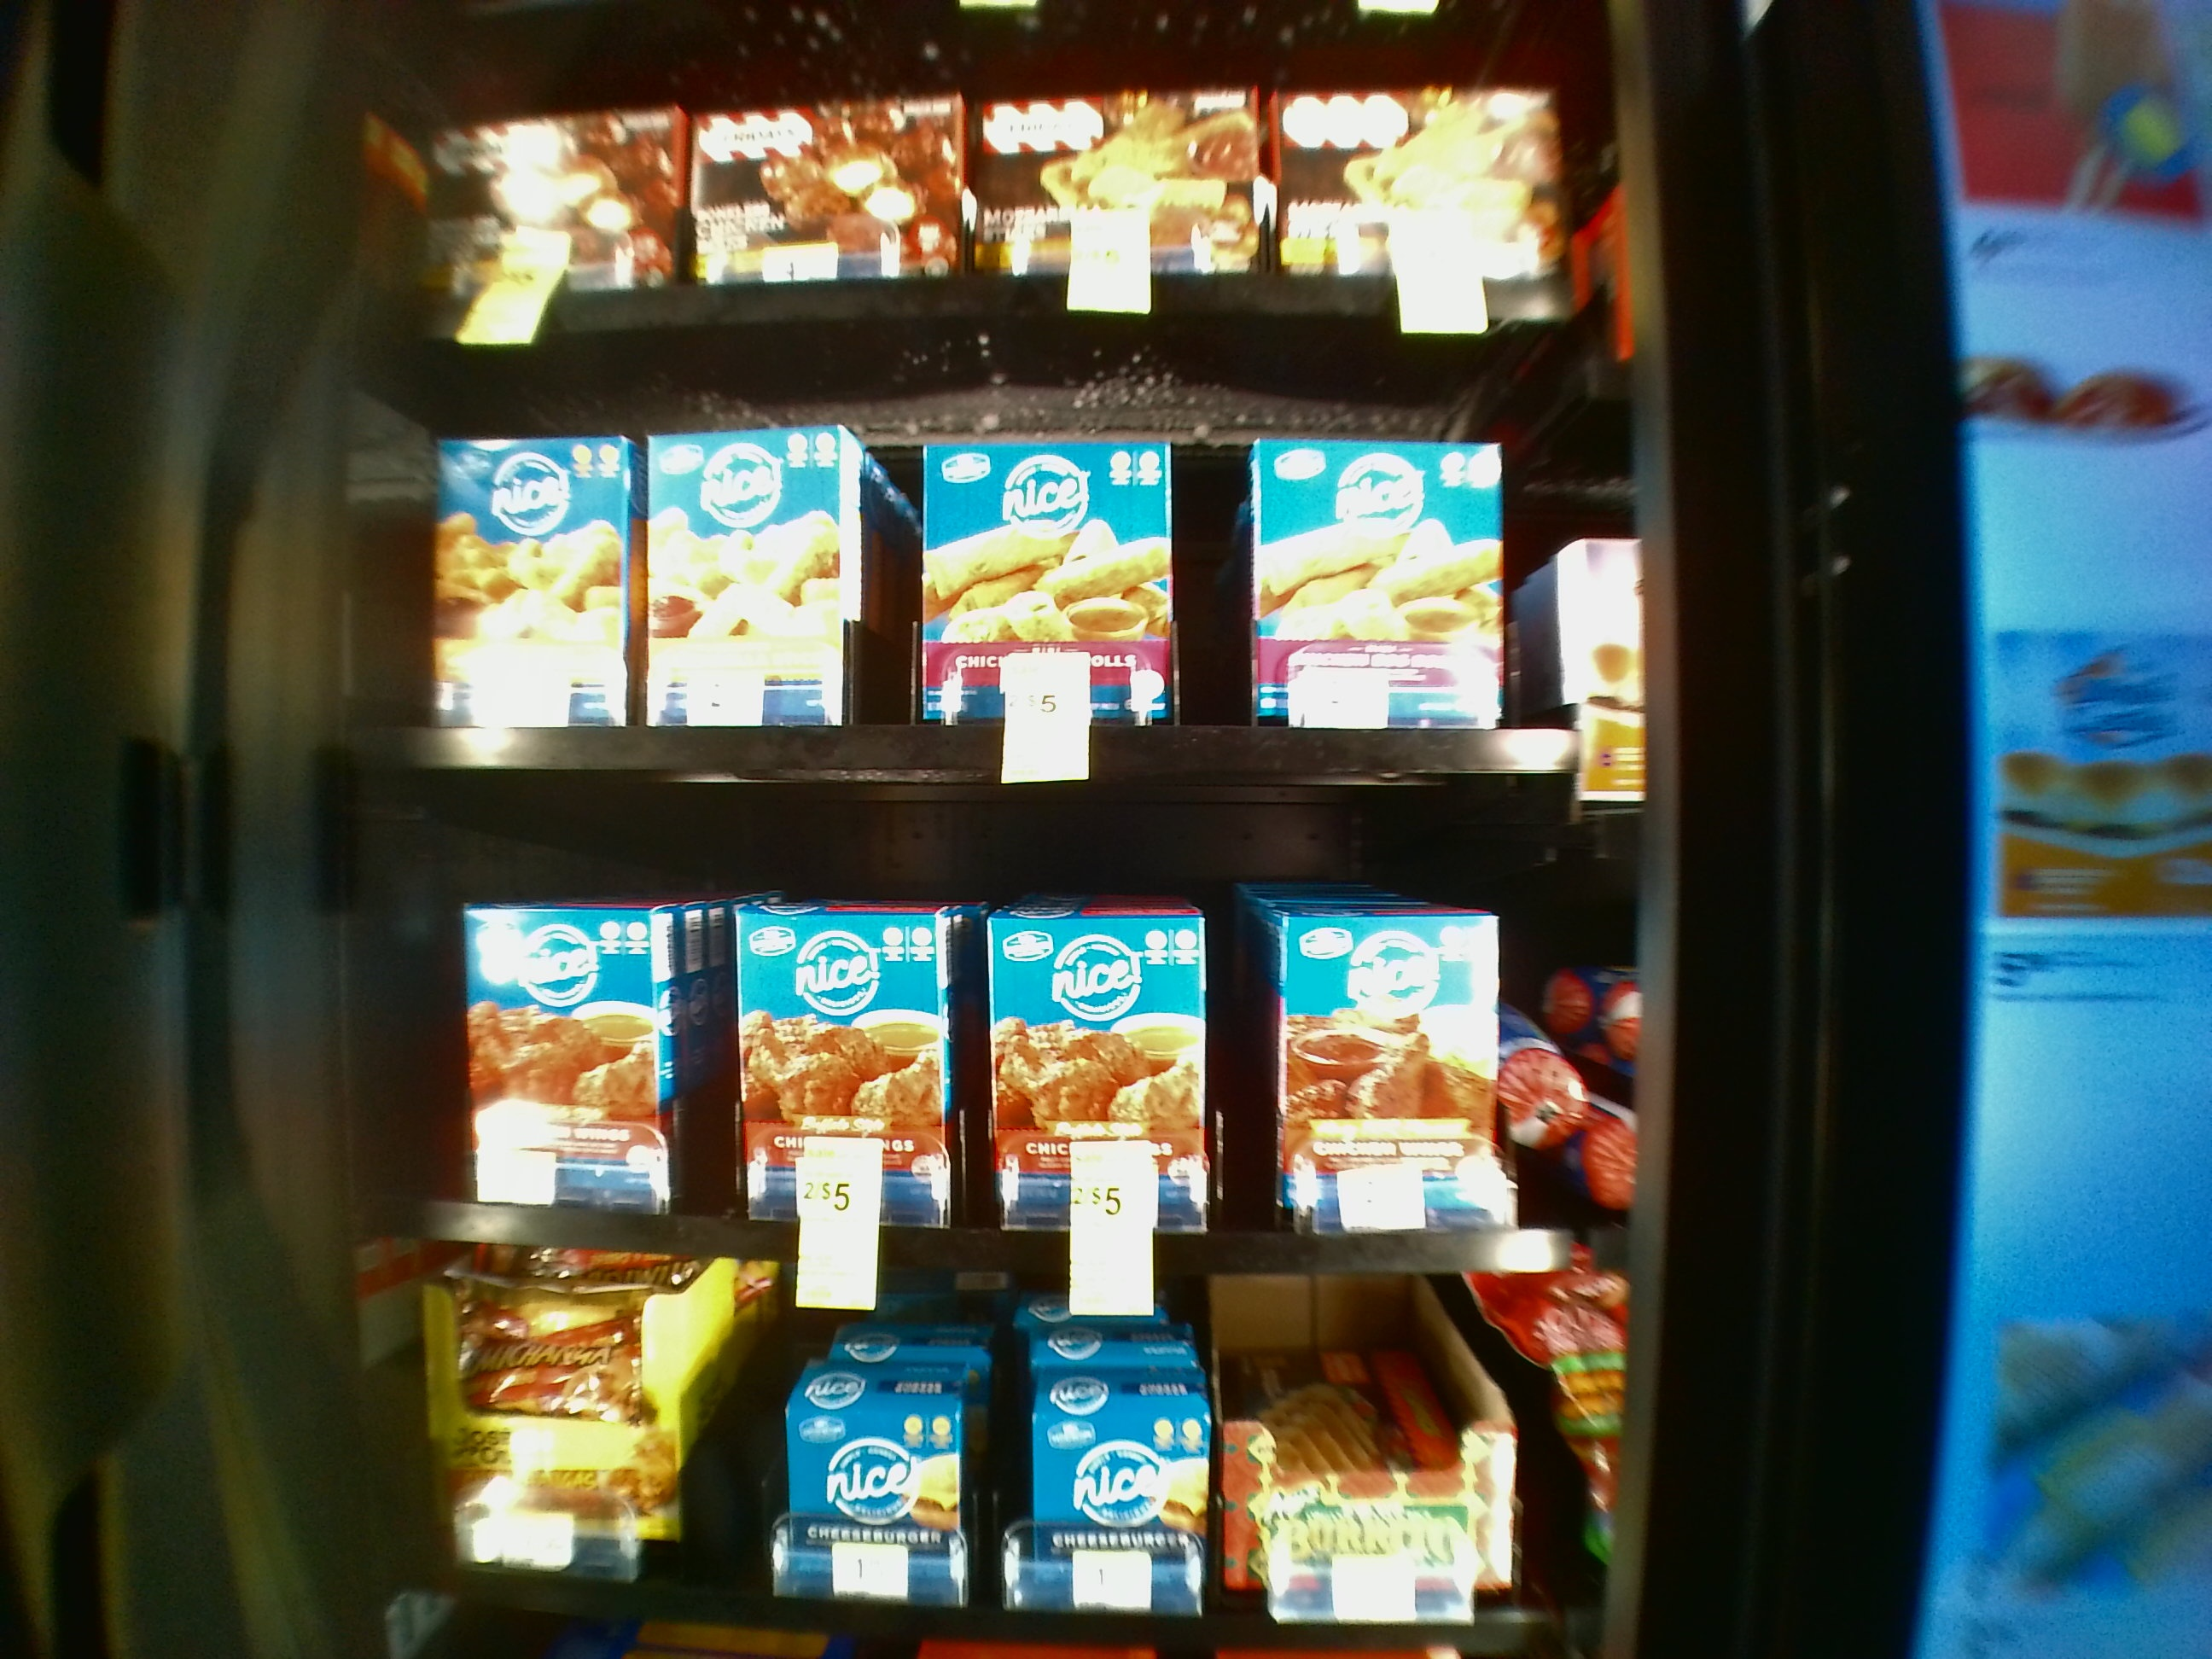shelf: (350, 796, 1634, 1276), (354, 340, 1629, 774)
